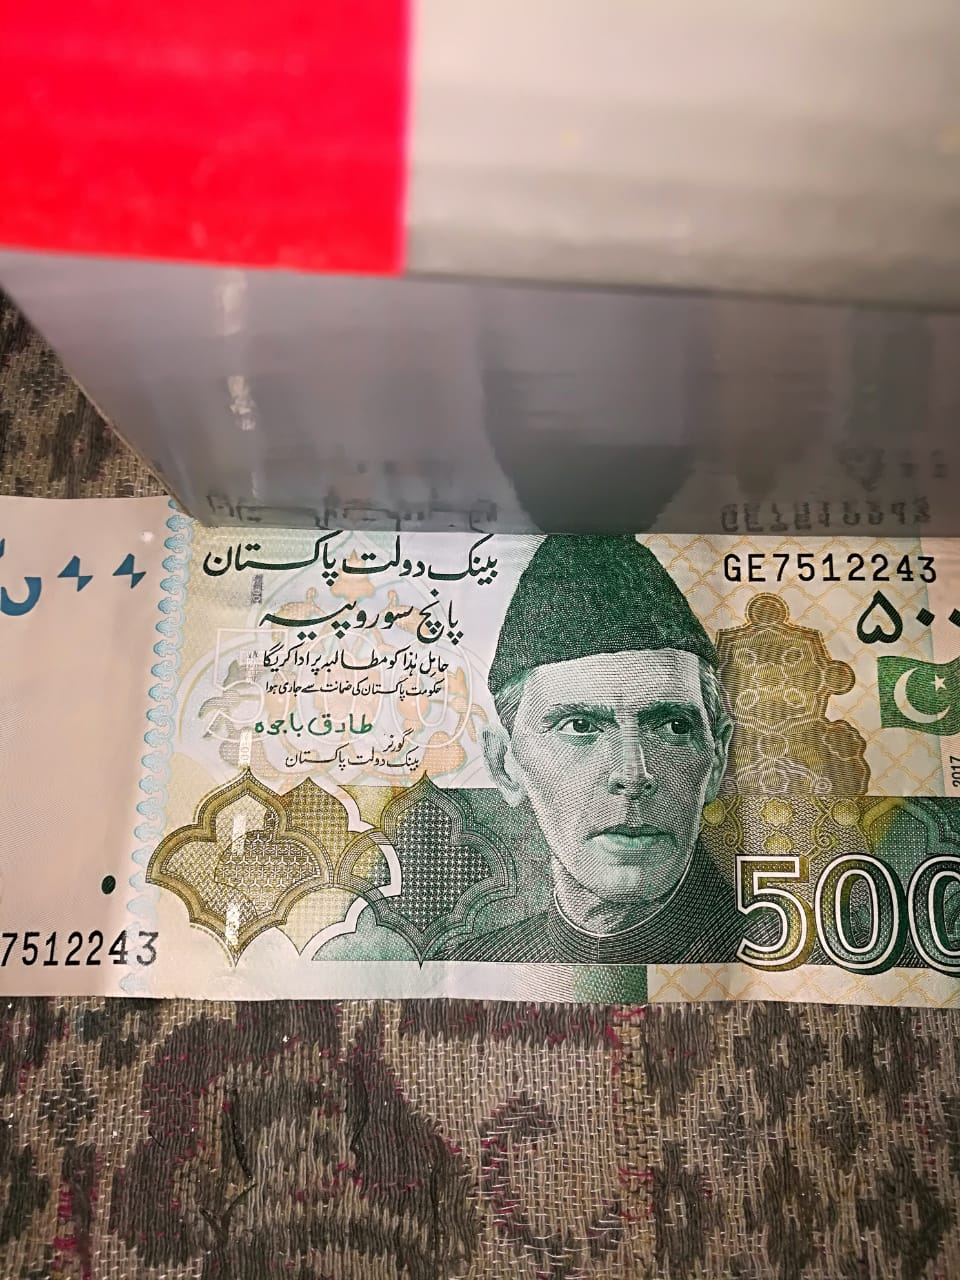500 rupee: (9, 482, 960, 1057)
